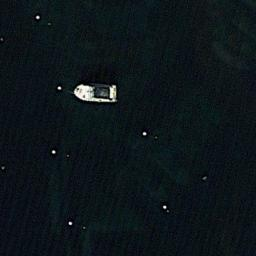boat: (72, 80, 118, 104)
